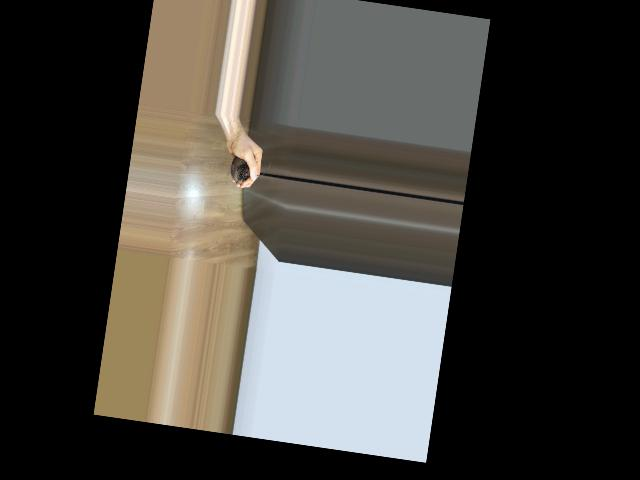beet: (228, 155, 271, 188)
